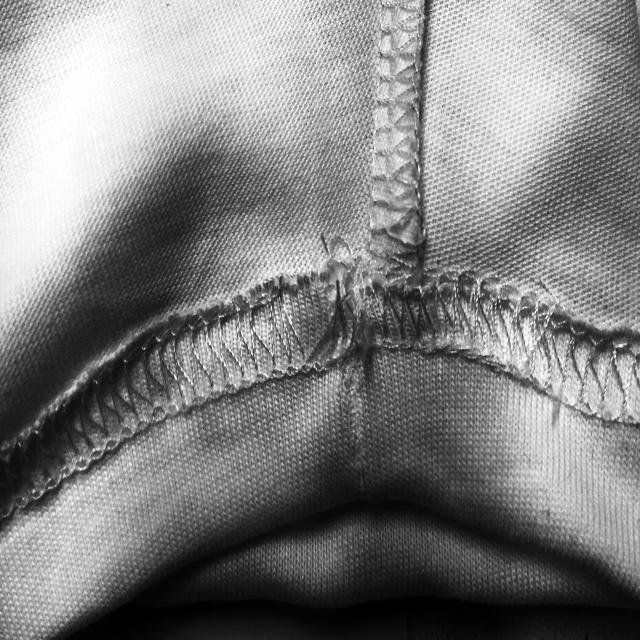Sewing_error: (284, 240, 404, 376)
